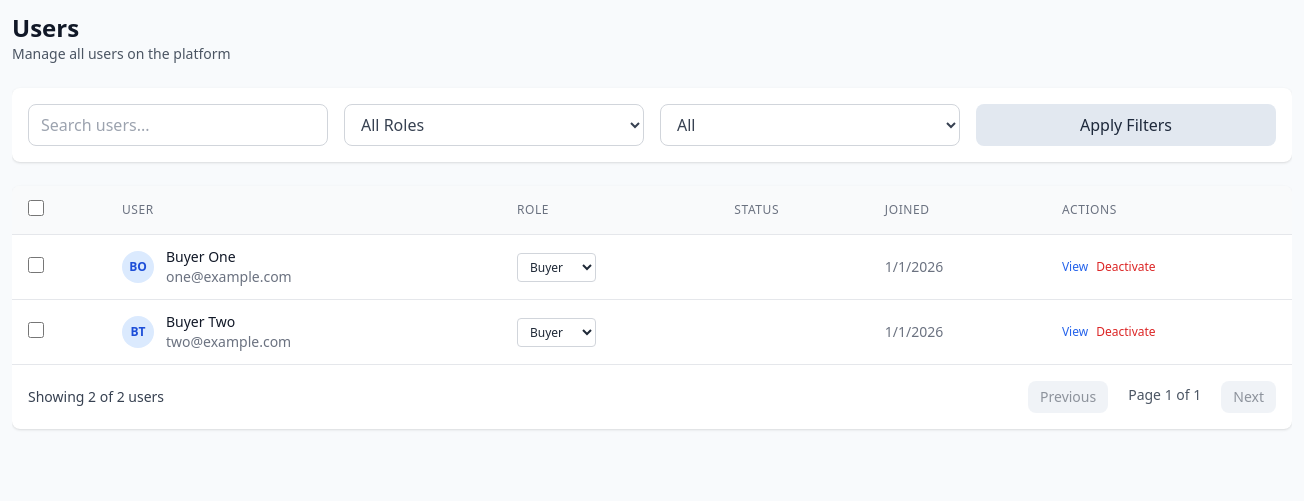
Test: admin Users — deactivation › bulk-deactivates all selected users concurrently and reports full success
Expected: the text "Buyer One" is shown, [166,247,236,266]
Click the checkbox next to "BO". click: (36, 265)
box: [28,257,44,273]
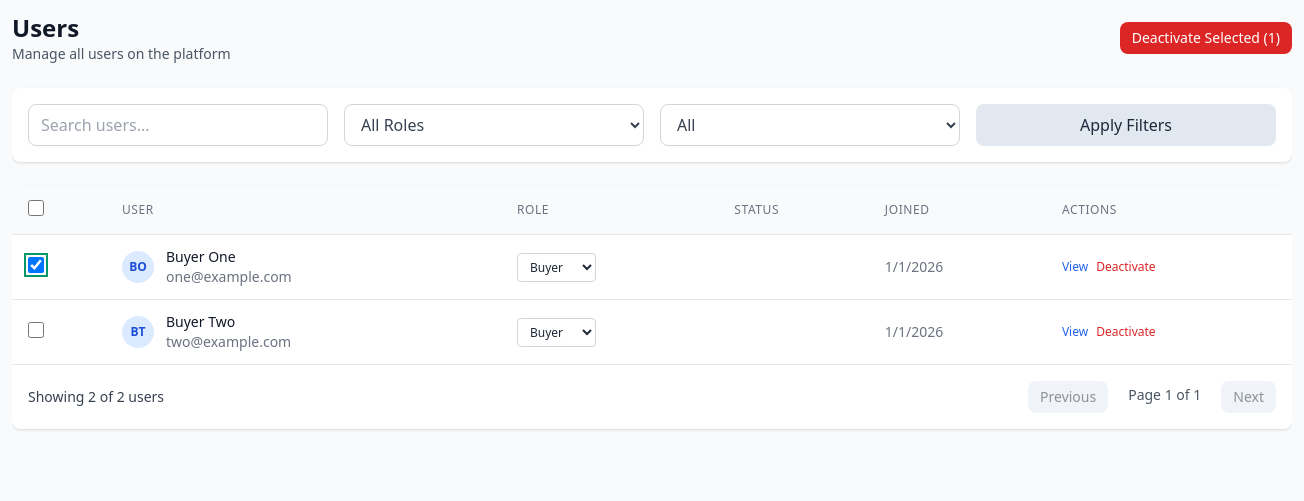
Click the 3rd checkbox. click: (36, 330)
box: [28,322,44,338]
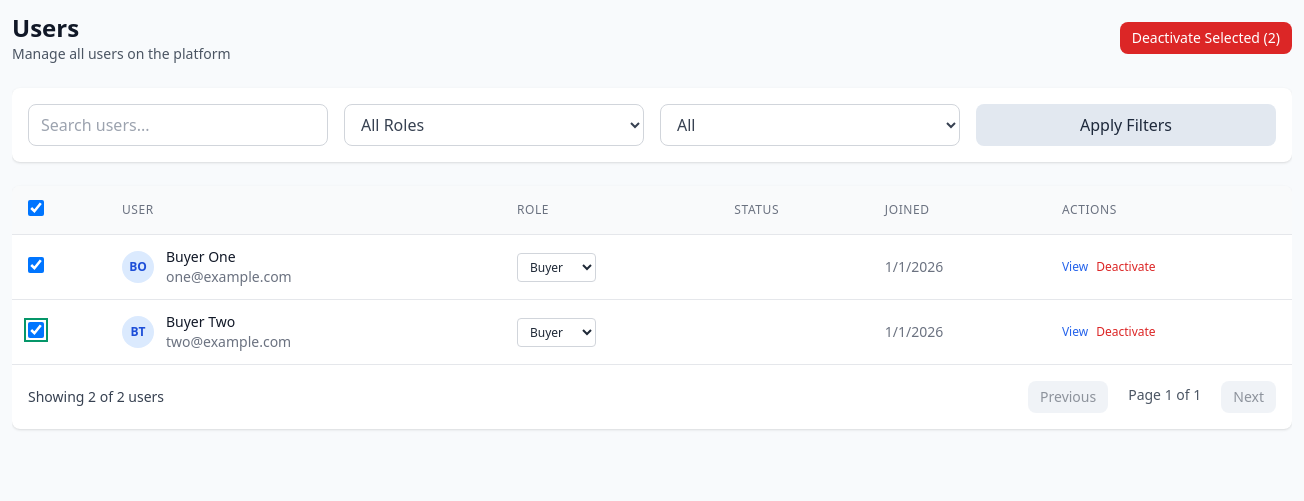
Click the button "Deactivate Selected (2)". click: (1206, 38)
box: [1120,22,1292,54]
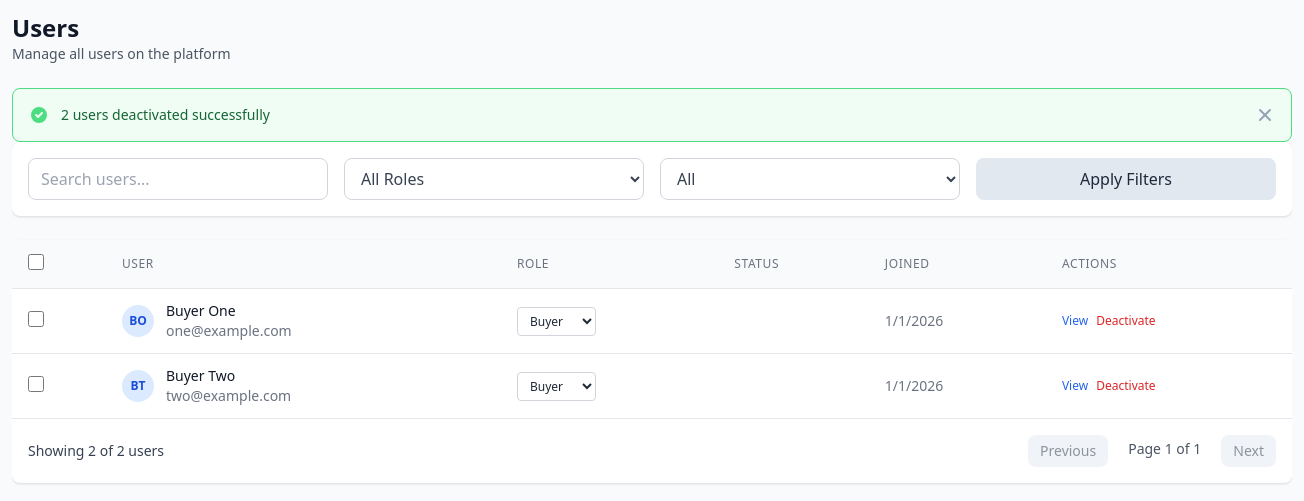
Expected: the text "2 users deactivated successfully" is shown, [61,105,270,124]
